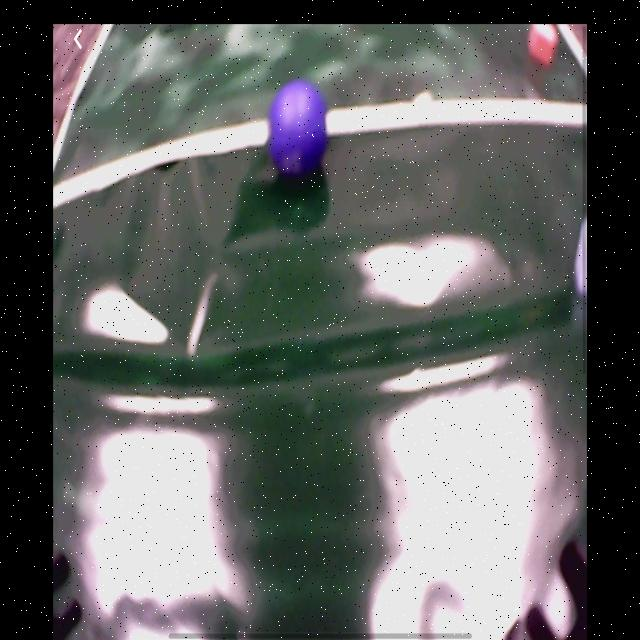ball: (270, 83, 327, 176)
